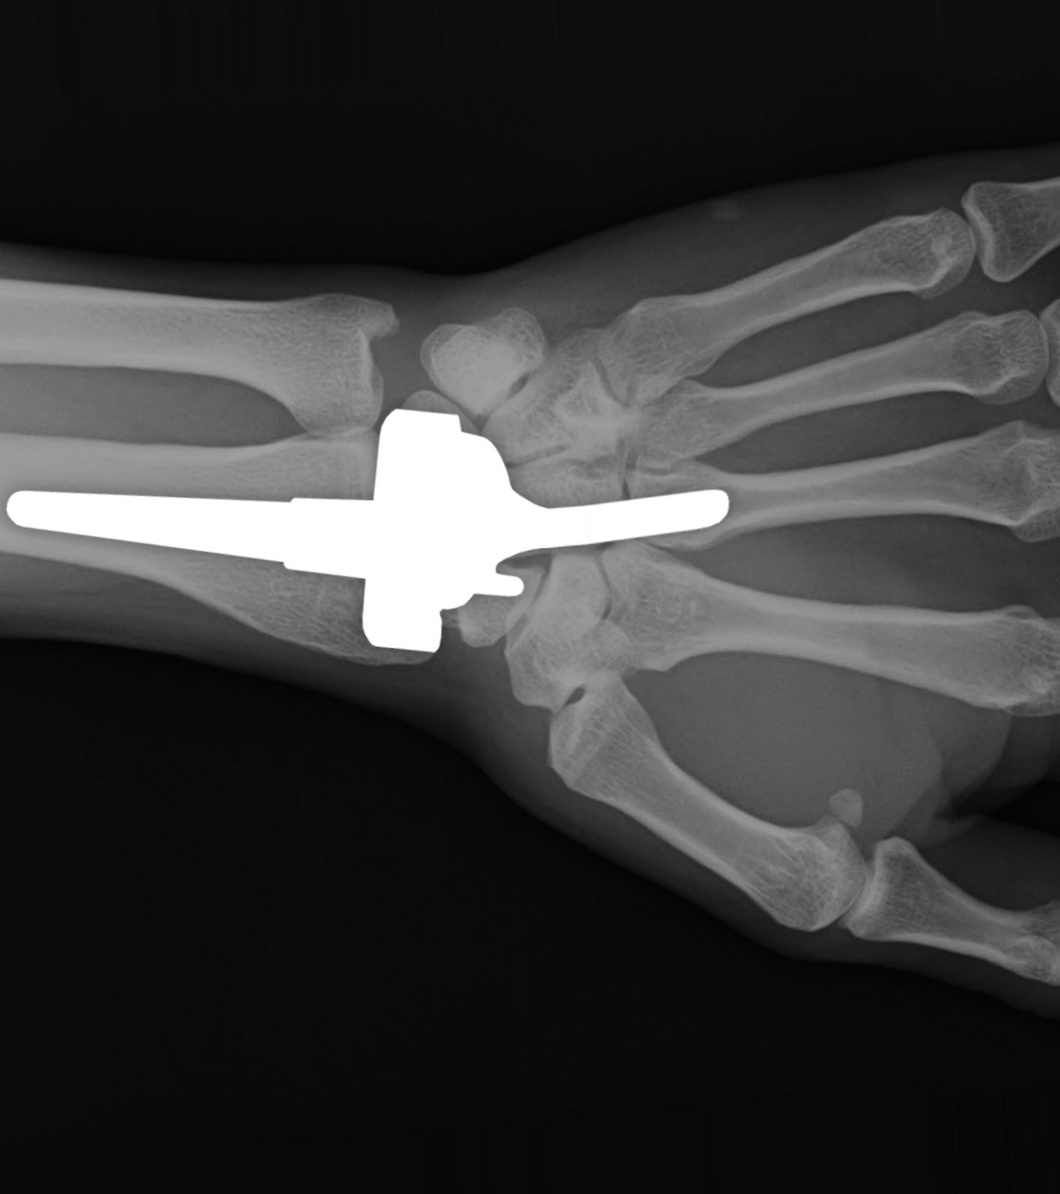Wrist-Biax-DePuuy: (4, 391, 761, 680)
